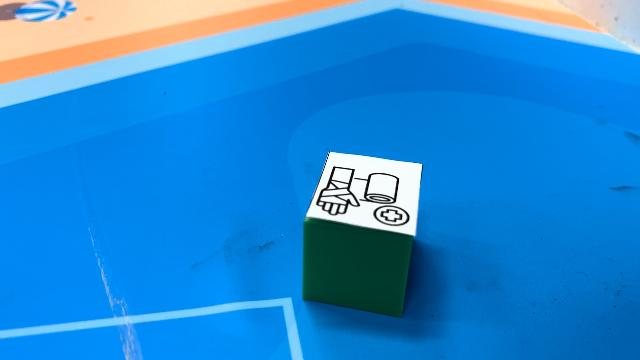bandage: (302, 150, 422, 318)
